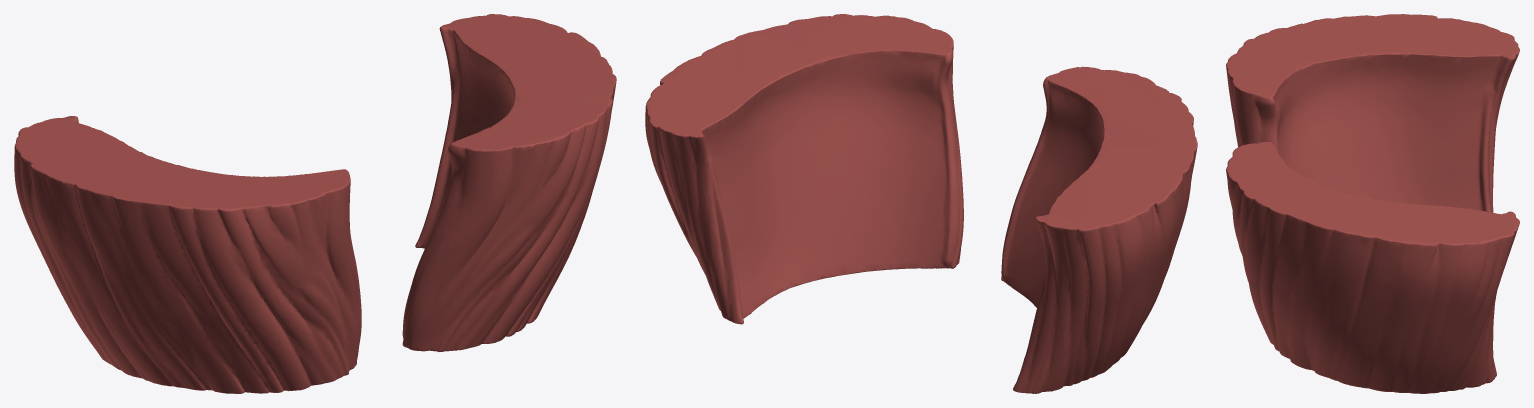
Rendered from FMA62394.glb.
3 views of the same model, side by side, from view 1: azimuth 30°, elevation 25°; view 2: azimuth 150°, elevation 25°; view 3: azimuth 270°, elevation 25° (orthographic). The views are drawn at different scales.
Visible parts, largest first — view 1: FMA62394; view 2: FMA62394; view 3: FMA62394.
Part boxes in pixels (<box>): FMA62394: <box>14,14,616,393</box>; FMA62394: <box>645,14,1197,393</box>; FMA62394: <box>1226,14,1519,393</box>.
Bounding box in the file's own units: 0.0401 × 0.0158 × 0.0217.
